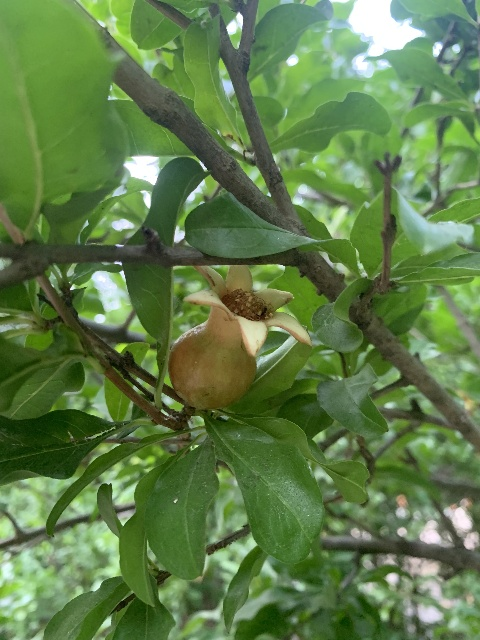early-fruit: (169, 266, 310, 410)
